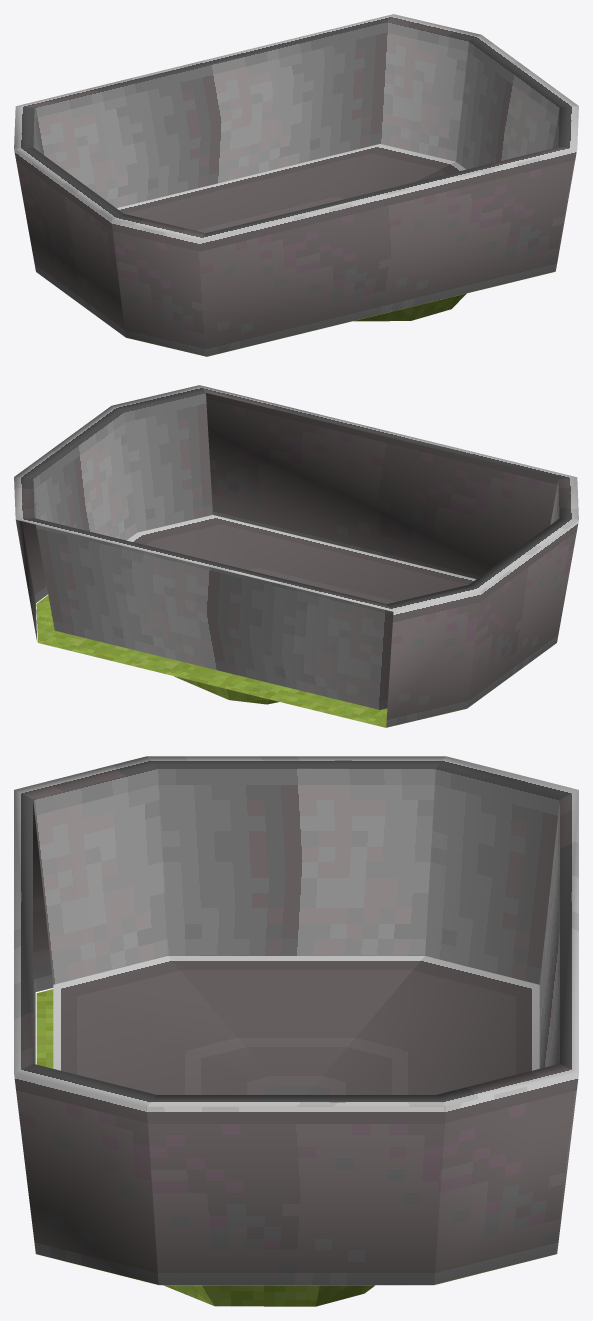
3 renders of one model, top to bottom at view 1: azimuth 30°, elevation 25°; view 2: azimuth 150°, elevation 25°; view 3: azimuth 270°, elevation 25°, orthographic. The views are drawn at different scales.
Visible parts, largest first — view 1: ice_box4; view 2: ice_box4; view 3: ice_box4.
Boxes of the visible parts, left/top/right/bottom form: ice_box4: left=14, top=14, right=578, bottom=356; ice_box4: left=14, top=385, right=578, bottom=727; ice_box4: left=14, top=756, right=578, bottom=1306.
Size of the model in its own units: 0.6354 by 0.2268 by 0.4326.
2 materials, 2 textured.
